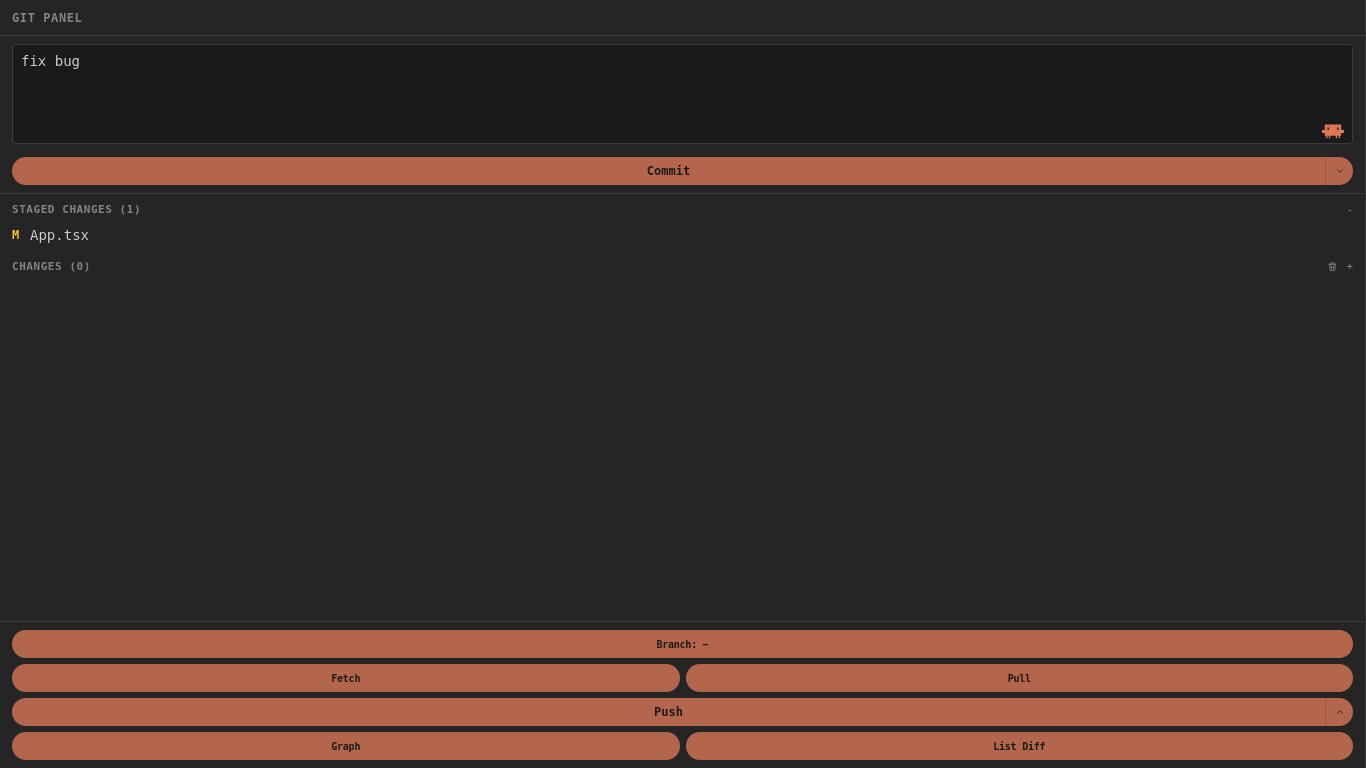
Test: GitPanel — commit options (--no-verify) › clicking "Commit --no-verify" commits immediately with the flag and closes the panel
The image size is (1366, 768).
Click the button named "Commit options": {"x": 1339, "y": 171} [1325, 157, 1353, 185]
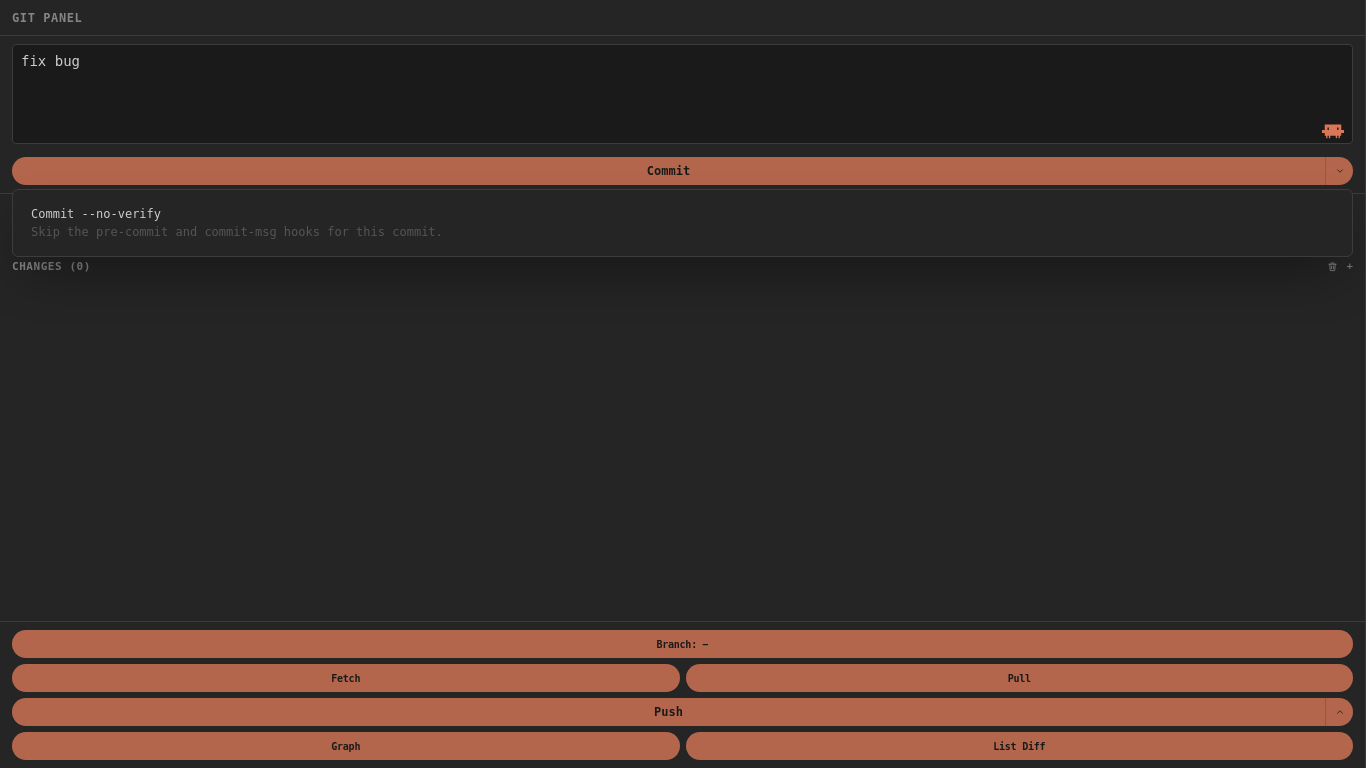
Click the text "Commit --no-verify": {"x": 96, "y": 214} [31, 206, 161, 222]
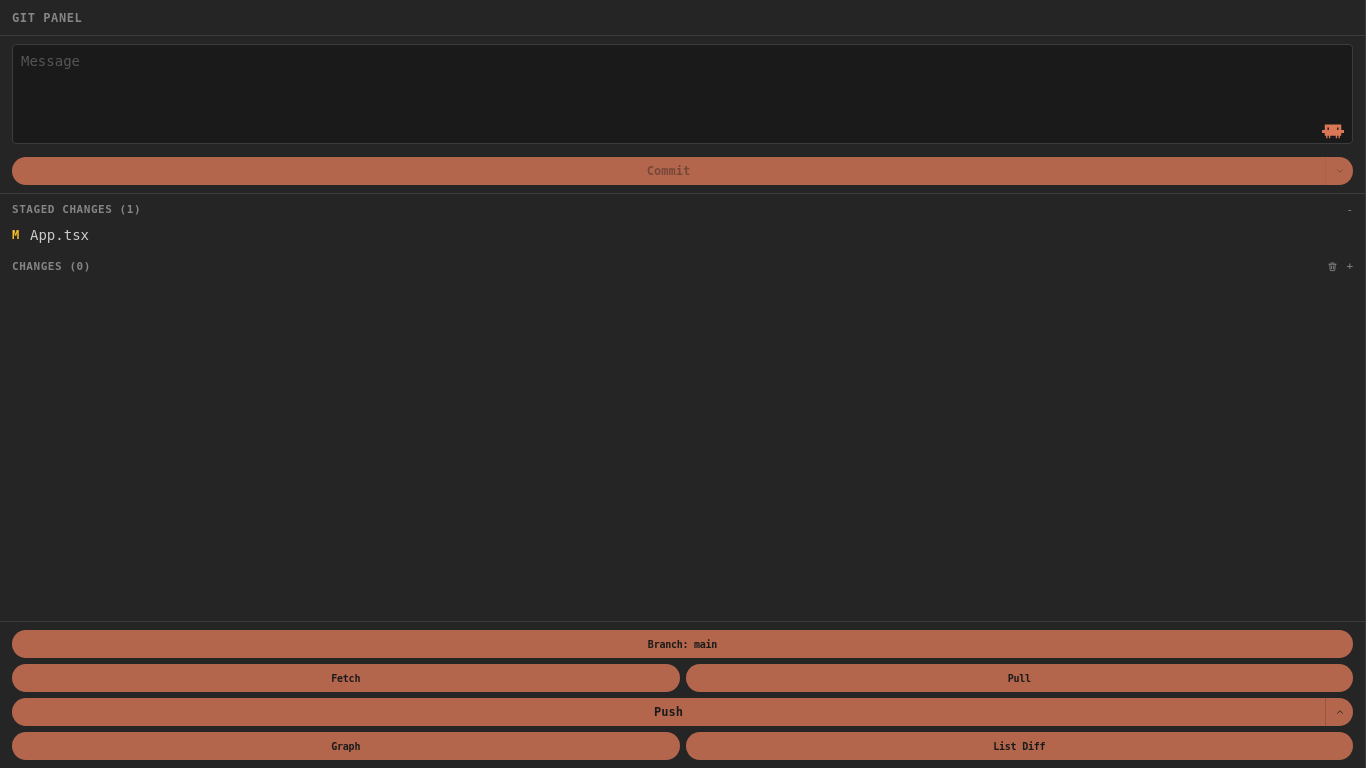
Now the button "Commit --no-verify" is gone
